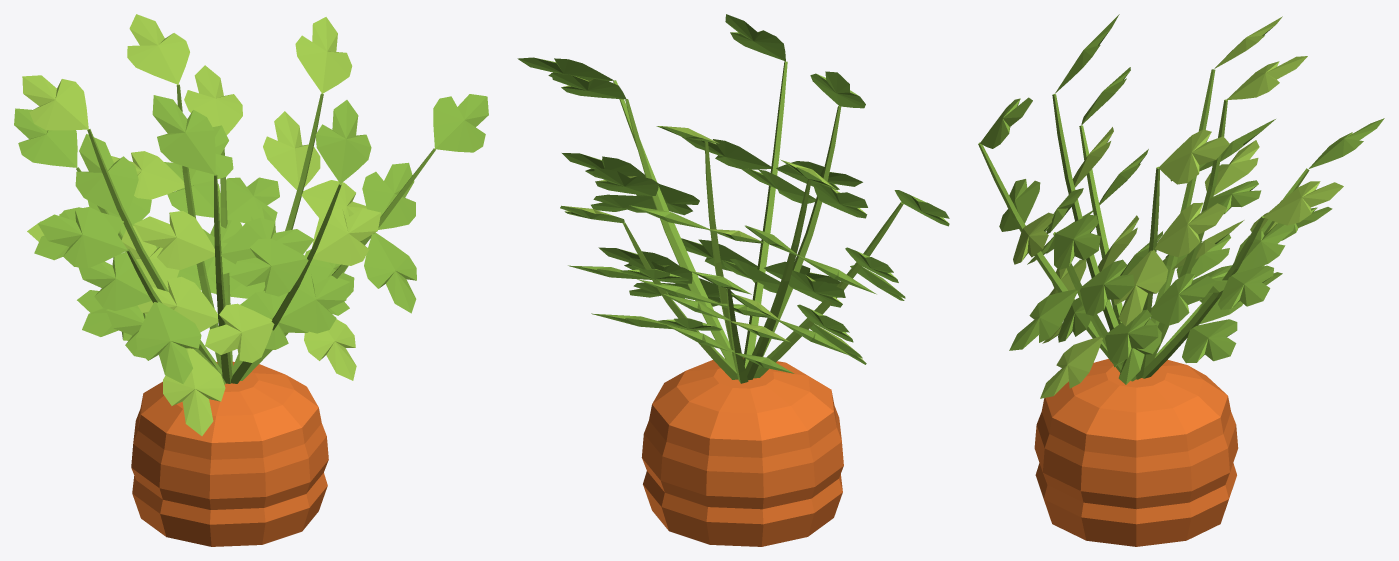
Rendered from FMS_Crop_Carrot_S3.fbx.
3 views of the same model, side by side, from view 1: azimuth 30°, elevation 25°; view 2: azimuth 150°, elevation 25°; view 3: azimuth 270°, elevation 25° (orthographic). The views are drawn at different scales.
Parts seen in each view (by area): view 1: FMS_Crop_Carrot_S3; view 2: FMS_Crop_Carrot_S3; view 3: FMS_Crop_Carrot_S3.
Part boxes in pixels (x1,y1,x2,y2): FMS_Crop_Carrot_S3: [14, 14, 488, 546]; FMS_Crop_Carrot_S3: [517, 14, 949, 546]; FMS_Crop_Carrot_S3: [978, 14, 1384, 546].
Bounding box in the file's own units: 0.49 × 0.4752 × 0.3875.
